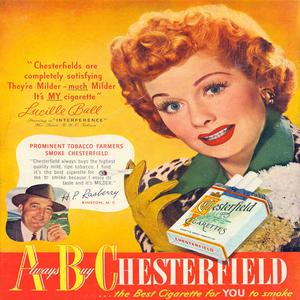cigarette: (97, 166, 158, 181), (43, 221, 59, 237)
